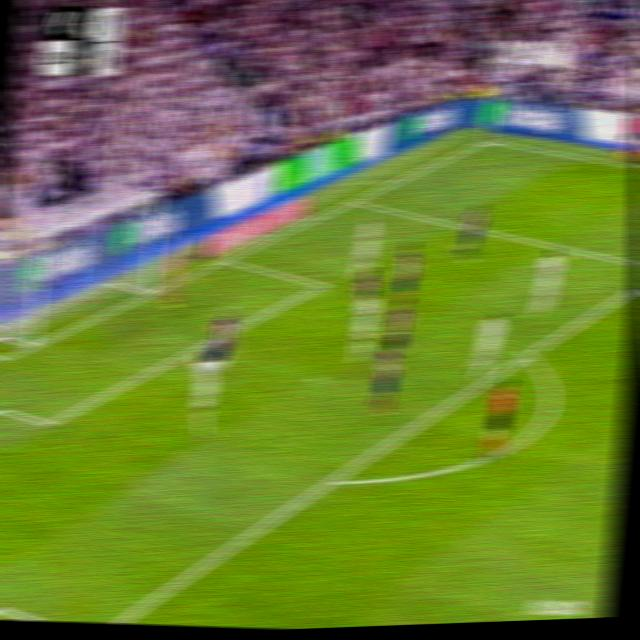bigarea_top_outter: (345, 189, 363, 210)
bottom_arc_area_intersection: (320, 458, 347, 497)
corner: (474, 131, 497, 148)
smallarea_bottom_inner: (38, 407, 59, 439)
smallarea_top_inner: (308, 271, 332, 299)
top_arc_area_intersection: (516, 340, 538, 367)
